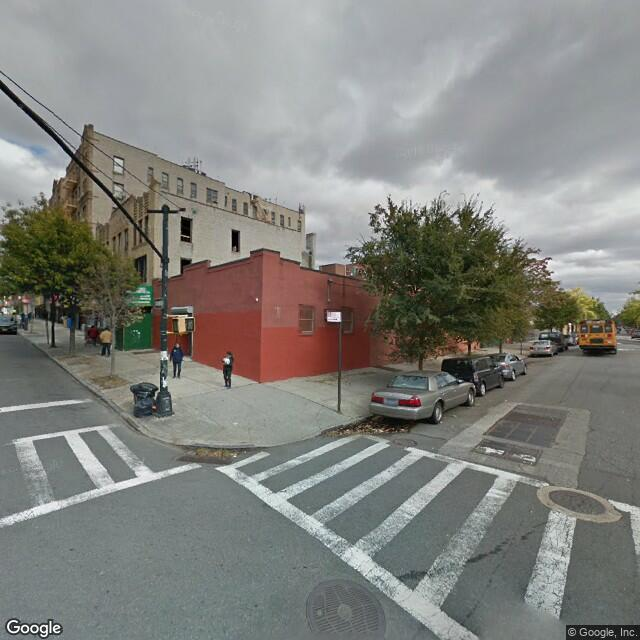litter: (231, 452, 237, 455), (233, 421, 237, 423)
